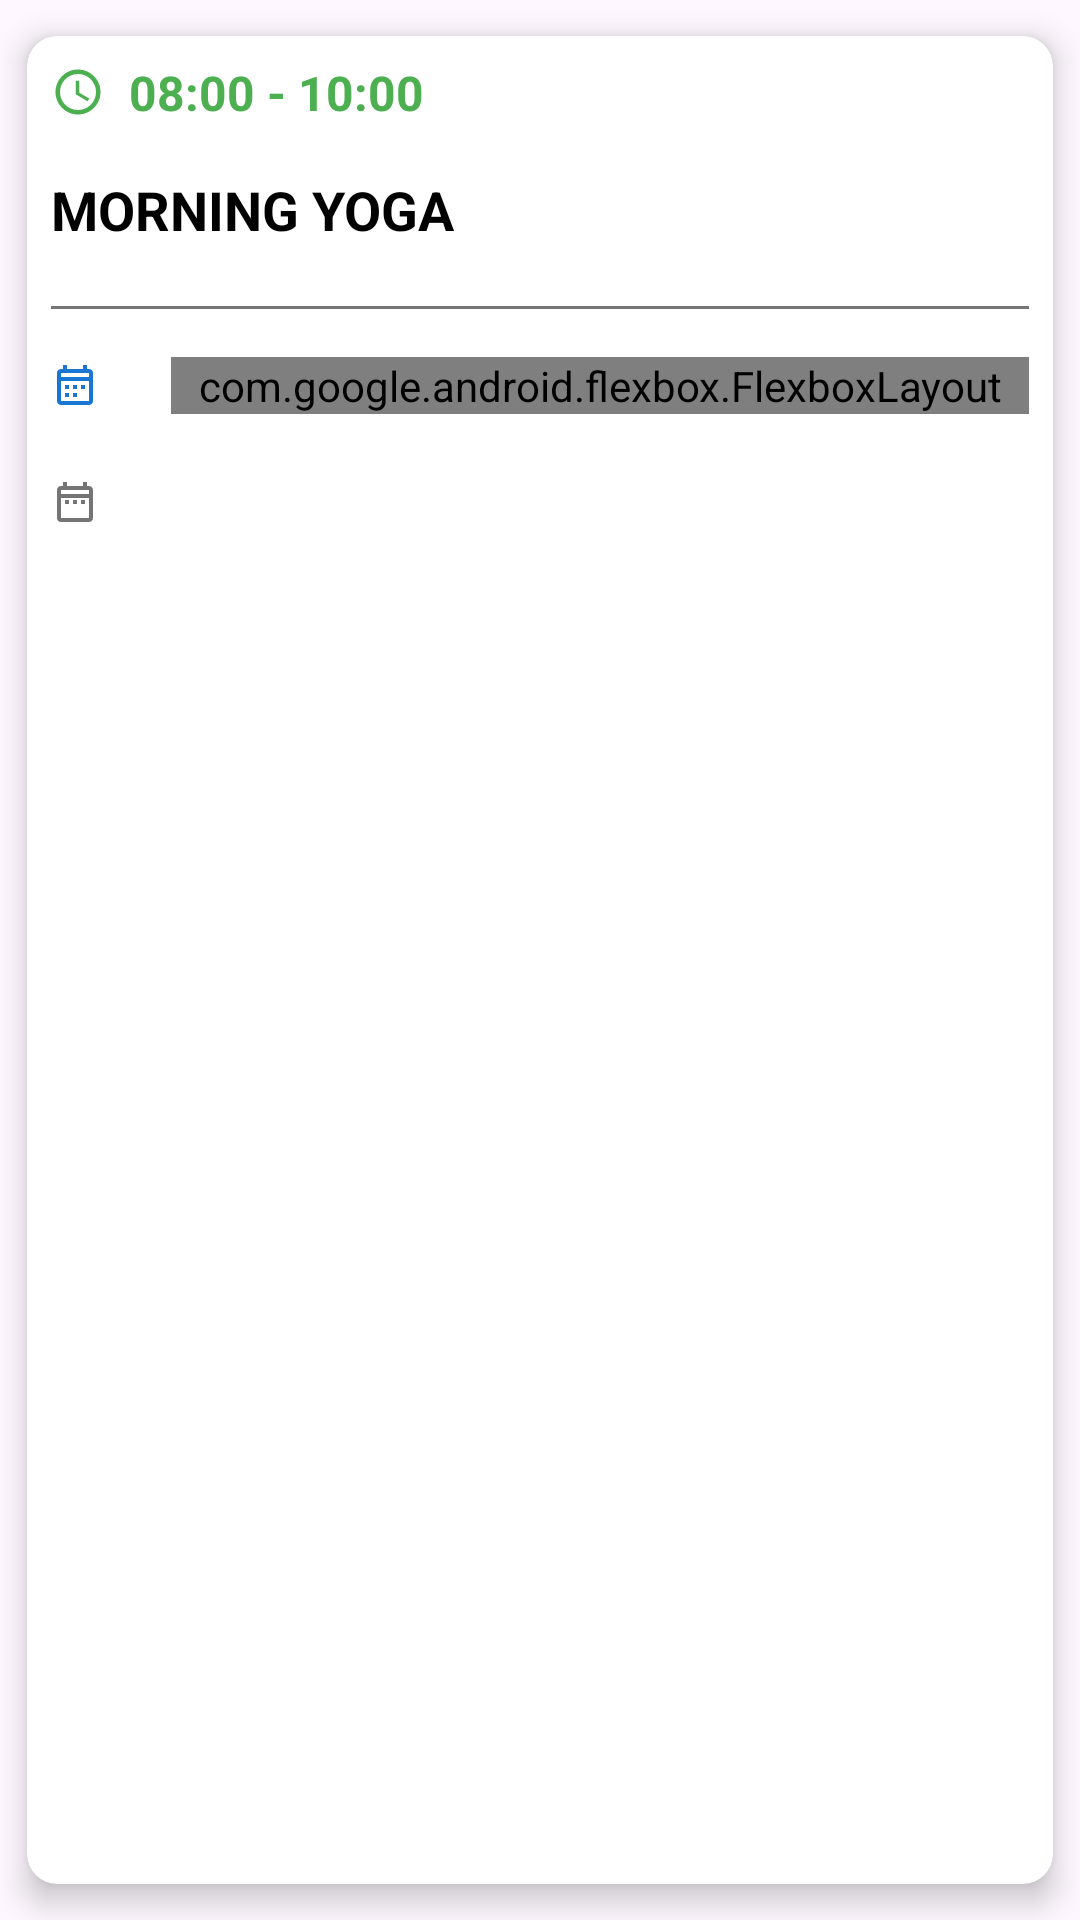

Screen size 1080×1920. Icon name, then its box in pixels as bbox(x1, y1, x2, y2):
calendar days: bbox(57, 365, 93, 405)
date range: bbox(57, 482, 93, 522)
time: bbox(55, 69, 101, 115)
